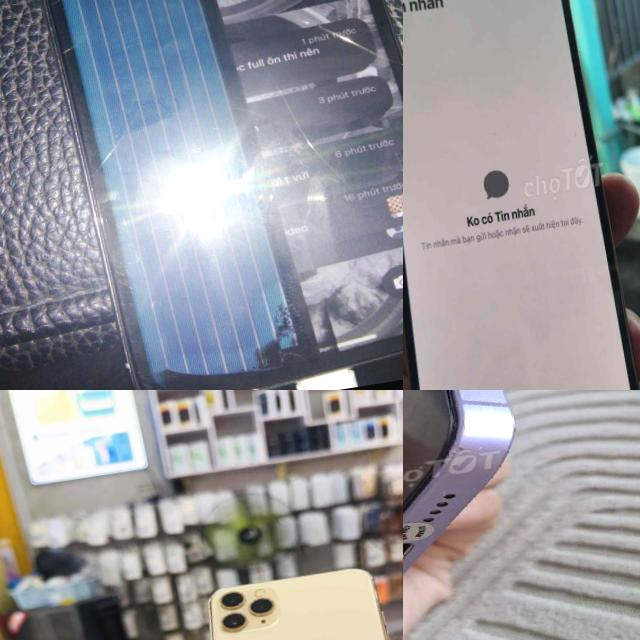physical_damage: (288, 108, 312, 136), (312, 146, 338, 171), (58, 36, 90, 52), (337, 31, 362, 49), (268, 68, 285, 90), (95, 146, 117, 163), (300, 136, 320, 154), (295, 12, 316, 26), (278, 90, 294, 108), (325, 24, 340, 35), (114, 132, 124, 146), (45, 0, 71, 5)
scratch: (236, 385, 267, 390)
screen_defect: (107, 193, 312, 390), (66, 29, 258, 222), (32, 0, 211, 56)
